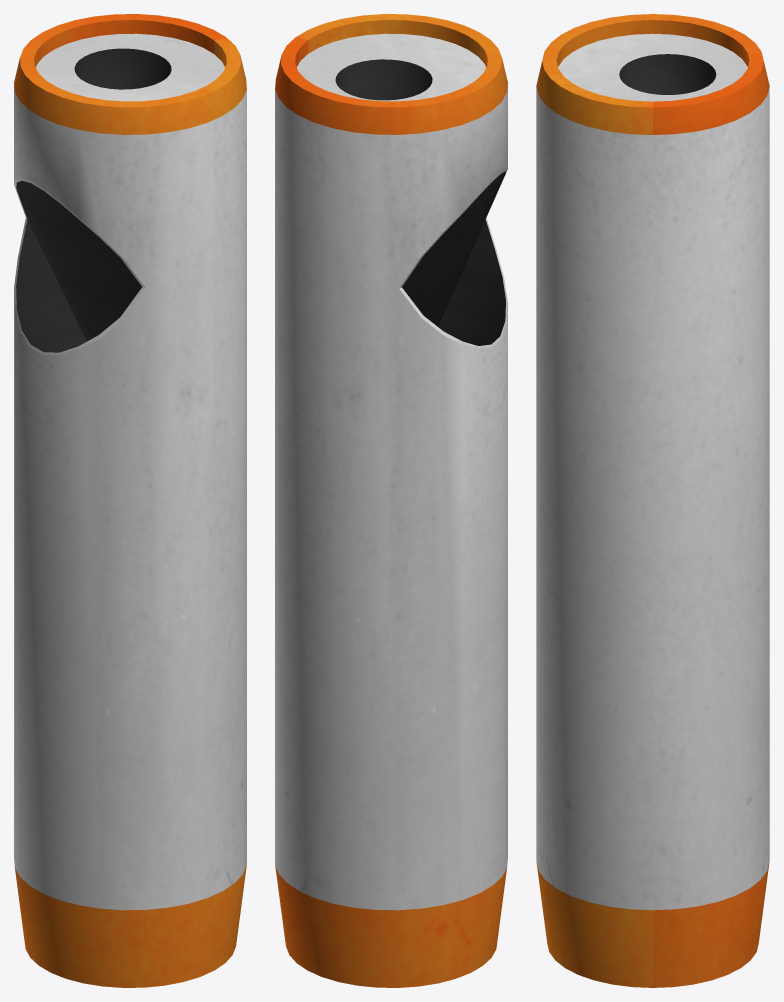
The model's file is smokebin.fbx.
3 views of the same model, side by side, from view 1: azimuth 30°, elevation 25°; view 2: azimuth 150°, elevation 25°; view 3: azimuth 270°, elevation 25° (orthographic).
Visible parts, largest first — view 1: smokebin; view 2: smokebin; view 3: smokebin.
Boxes of the visible parts, <box> form: smokebin: <box>14,14,246,987</box>; smokebin: <box>275,14,507,987</box>; smokebin: <box>536,14,769,987</box>.
Size of the model in its own units: 30.3 by 126 by 30.3.
